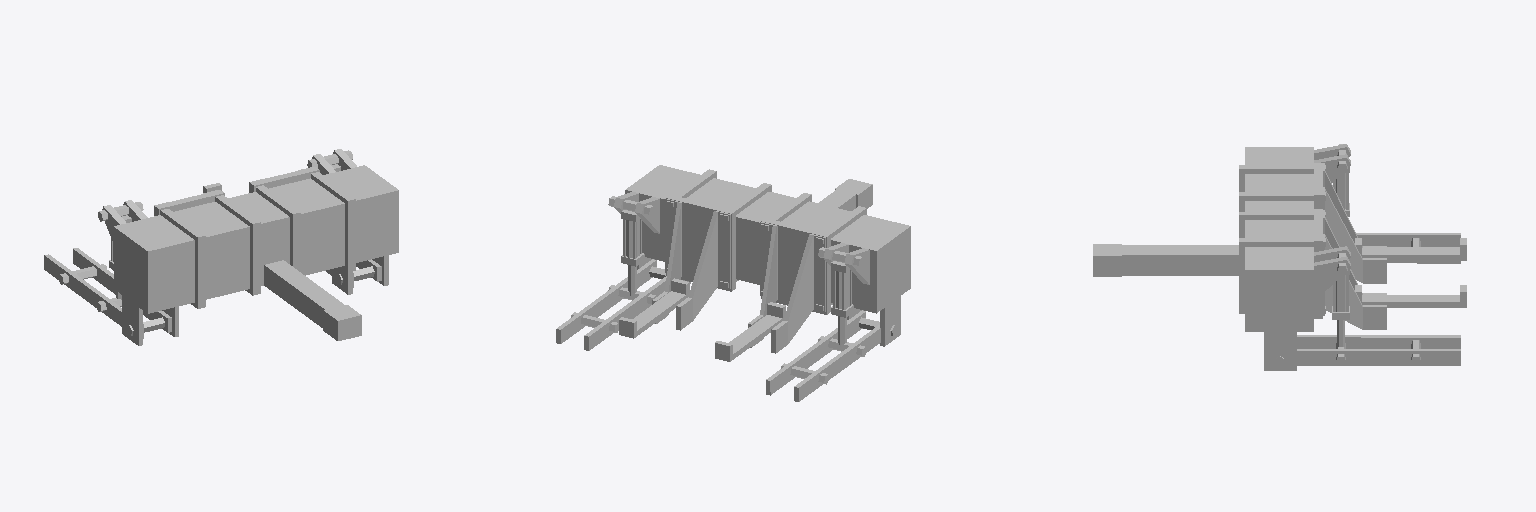
File: randallballplanter2.obj
The picture shows the model from 3 angles: view 1: azimuth 30°, elevation 25°; view 2: azimuth 150°, elevation 25°; view 3: azimuth 270°, elevation 25°; orthographic projection.
Visible parts, largest first — view 1: Cube.037_Cube.007, Cube_Cube.015_Cube_Cube.000, Cube.052_Cube.000, Cube.052_Cube.029, Cylinder.001_Cylinder.000, Cube.012_Cube.020, Cube.014_Cube.022, Cube.011_Cube.019, Cube.003_Cube.009; view 2: Cube.037_Cube.007, Cube.015_Cube.000, Cube.015_Cube.001, Cube.052_Cube.029, Cube.052_Cube.000, Cylinder.001_Cylinder.000, Cylinder.000_Cylinder.001, Cube.016_Cube.002, Cube.016_Cube.000, Cube.014_Cube.022, Cube_Cube.015_Cube_Cube.000, Cube.000_Cube.004 (+3 smaller); view 3: Cube.037_Cube.007, Cylinder.000_Cylinder.001, Cube_Cube.015_Cube_Cube.000, Cube.052_Cube.029, Cube.015_Cube.000, Cube.052_Cube.000, Cube.015_Cube.001, Cylinder.001_Cylinder.000, Cube.016_Cube.000, Cube.016_Cube.002, Cube.000_Cube.004, Cube.003_Cube.009 (+2 smaller).
Boxes of the visible parts, <box> form: Cube.037_Cube.007: <box>114,165,398,313</box>; Cube_Cube.015_Cube_Cube.000: <box>264,260,361,340</box>; Cube.052_Cube.000: <box>154,190,260,308</box>; Cube.052_Cube.029: <box>250,167,355,271</box>; Cylinder.001_Cylinder.000: <box>44,248,171,338</box>; Cube.012_Cube.020: <box>122,295,142,345</box>; Cube.014_Cube.022: <box>102,200,147,260</box>; Cube.011_Cube.019: <box>127,307,178,336</box>; Cube.003_Cube.009: <box>336,255,388,285</box>; Cube.037_Cube.007: <box>625,165,910,313</box>; Cube.015_Cube.000: <box>748,222,825,353</box>; Cube.015_Cube.001: <box>652,199,730,330</box>; Cube.052_Cube.029: <box>665,169,771,291</box>; Cube.052_Cube.000: <box>761,193,866,314</box>; Cylinder.001_Cylinder.000: <box>766,310,880,401</box>; Cylinder.000_Cylinder.001: <box>556,259,666,350</box>; Cube.016_Cube.002: <box>619,278,689,338</box>; Cube.016_Cube.000: <box>715,302,785,361</box>; Cube.014_Cube.022: <box>823,243,869,309</box>; Cube_Cube.015_Cube_Cube.000: <box>819,179,872,210</box>; Cube.000_Cube.004: <box>614,192,659,258</box>; Cube.037_Cube.007: <box>1245,147,1313,331</box>; Cylinder.000_Cylinder.001: <box>1297,335,1460,365</box>; Cube_Cube.015_Cube_Cube.000: <box>1093,244,1238,276</box>; Cube.052_Cube.029: <box>1239,209,1325,318</box>; Cube.015_Cube.000: <box>1323,163,1386,283</box>; Cube.052_Cube.000: <box>1239,163,1325,211</box>; Cube.015_Cube.001: <box>1323,210,1386,329</box>; Cylinder.001_Cylinder.000: <box>1356,233,1460,263</box>; Cube.016_Cube.000: <box>1355,238,1466,260</box>; Cube.016_Cube.002: <box>1355,285,1466,307</box>; Cube.000_Cube.004: <box>1314,246,1350,311</box>; Cube.003_Cube.009: <box>1264,332,1296,370</box>.
Bounding box in the file's own units: 2.51 × 1.02 × 3.2.